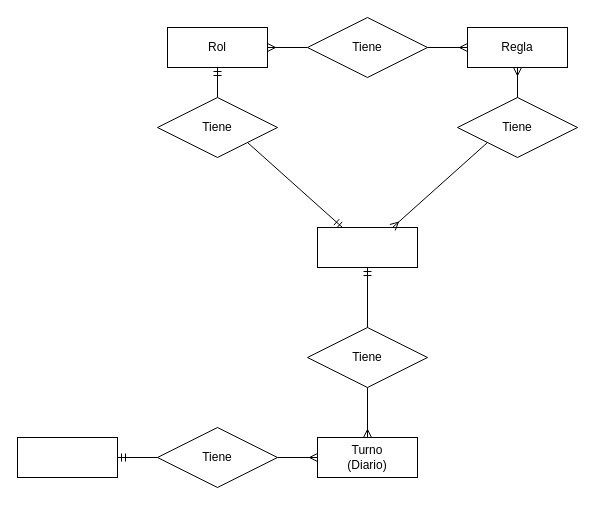
This 595x505 diagram has some shape labels left out. The shapes that lost their labels are listed below. From the top down, each one's box as (x1, y1, x2, y2) in pixels, then its label:
(316, 226, 418, 268): Empleado
(16, 436, 118, 478): Horario (Semanal)
